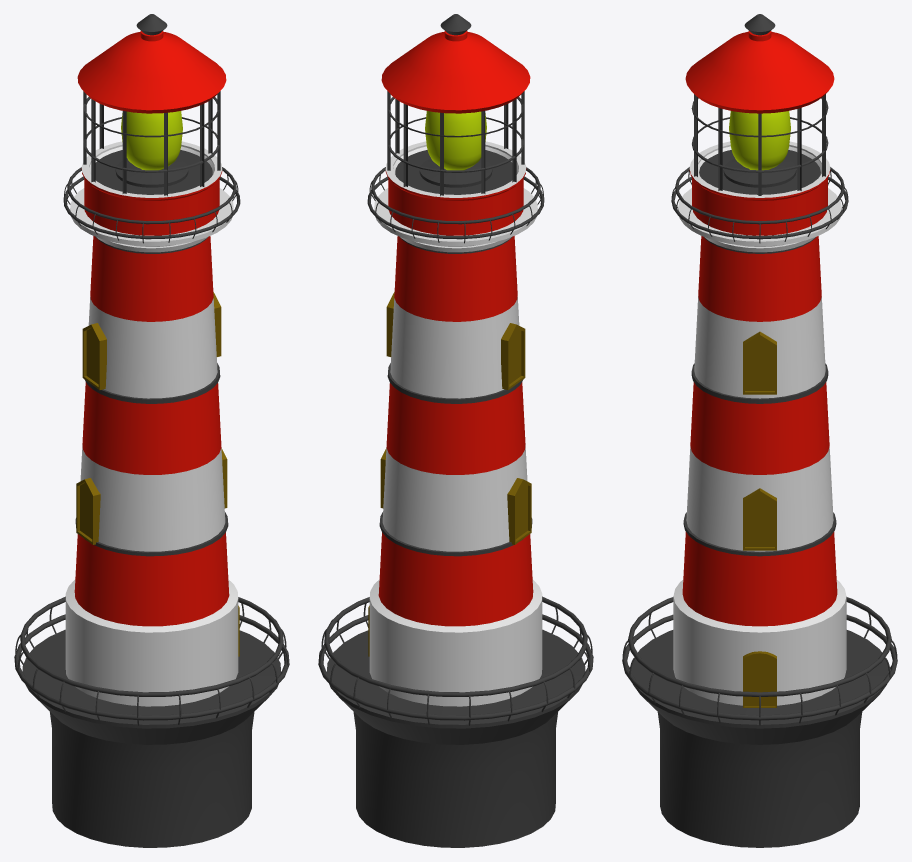
File: vuurtoren.fbx
3 renders of one model, left to right at view 1: azimuth 30°, elevation 25°; view 2: azimuth 150°, elevation 25°; view 3: azimuth 270°, elevation 25°, orthographic.
Parts seen in each view (by area): view 1: Vuurtoren; view 2: Vuurtoren; view 3: Vuurtoren.
Boxes of the visible parts, <box> form: Vuurtoren: <box>14,14,289,847</box>; Vuurtoren: <box>318,14,593,847</box>; Vuurtoren: <box>622,14,897,847</box>.
Size of the model in its own units: 3218 by 1017 by 1017.
